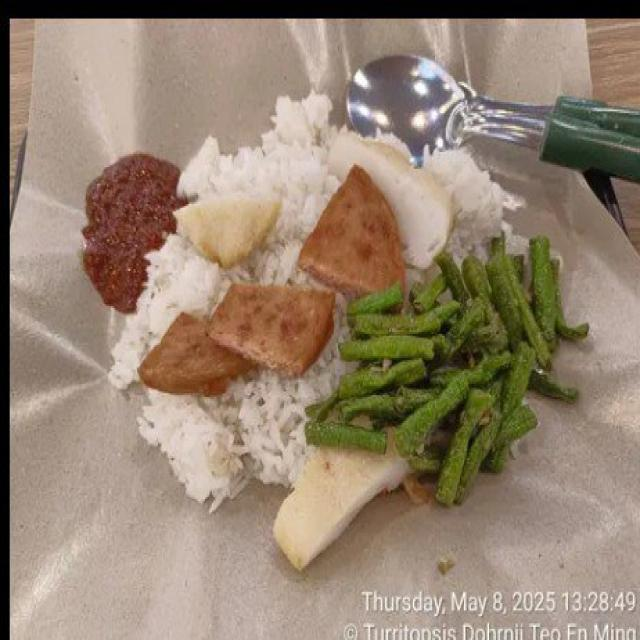Fish: (274, 436, 416, 568), (330, 126, 454, 269), (176, 184, 280, 267)
Green veg: (305, 237, 587, 503)
Pork: (139, 165, 406, 395)
Rice: (137, 301, 346, 510), (108, 180, 317, 388), (180, 91, 337, 236), (425, 147, 522, 249), (181, 139, 272, 189)
